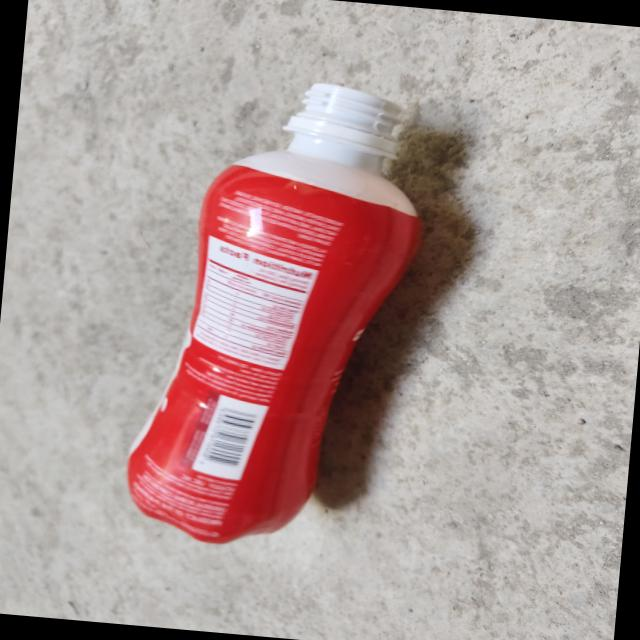Bottle: (126, 83, 419, 543), (126, 83, 417, 543)
